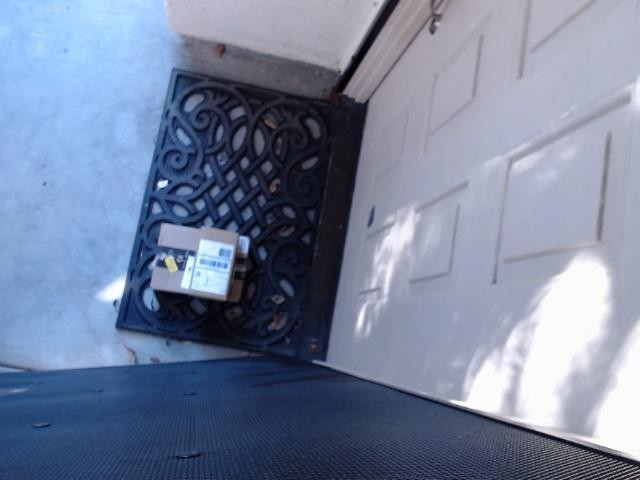box: (150, 223, 250, 304), (187, 226, 240, 302)
